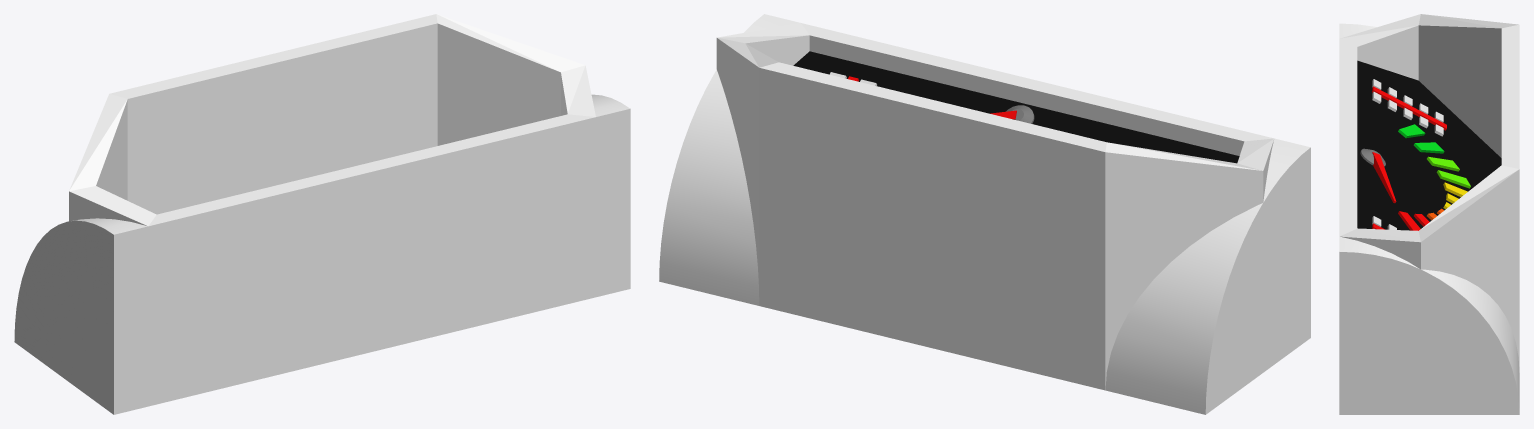
The model's file is Leg_YiBiaoPan_1X3_02.FBX.
3 renders of one model, left to right at view 1: azimuth 30°, elevation 25°; view 2: azimuth 150°, elevation 25°; view 3: azimuth 270°, elevation 25°, orthographic. The views are drawn at different scales.
Parts seen in each view (by area): view 1: YBP; view 2: YBP; view 3: YBP.
Part boxes in pixels (left/top/right/bottom): YBP: left=14, top=14, right=630, bottom=414; YBP: left=659, top=14, right=1310, bottom=414; YBP: left=1339, top=14, right=1519, bottom=414.
Size of the model in its own units: 3 by 1.25 by 1.
